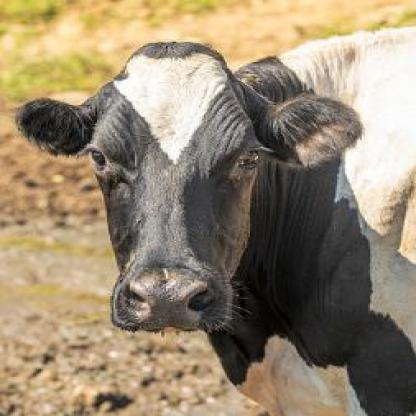cow: (13, 27, 416, 416)
